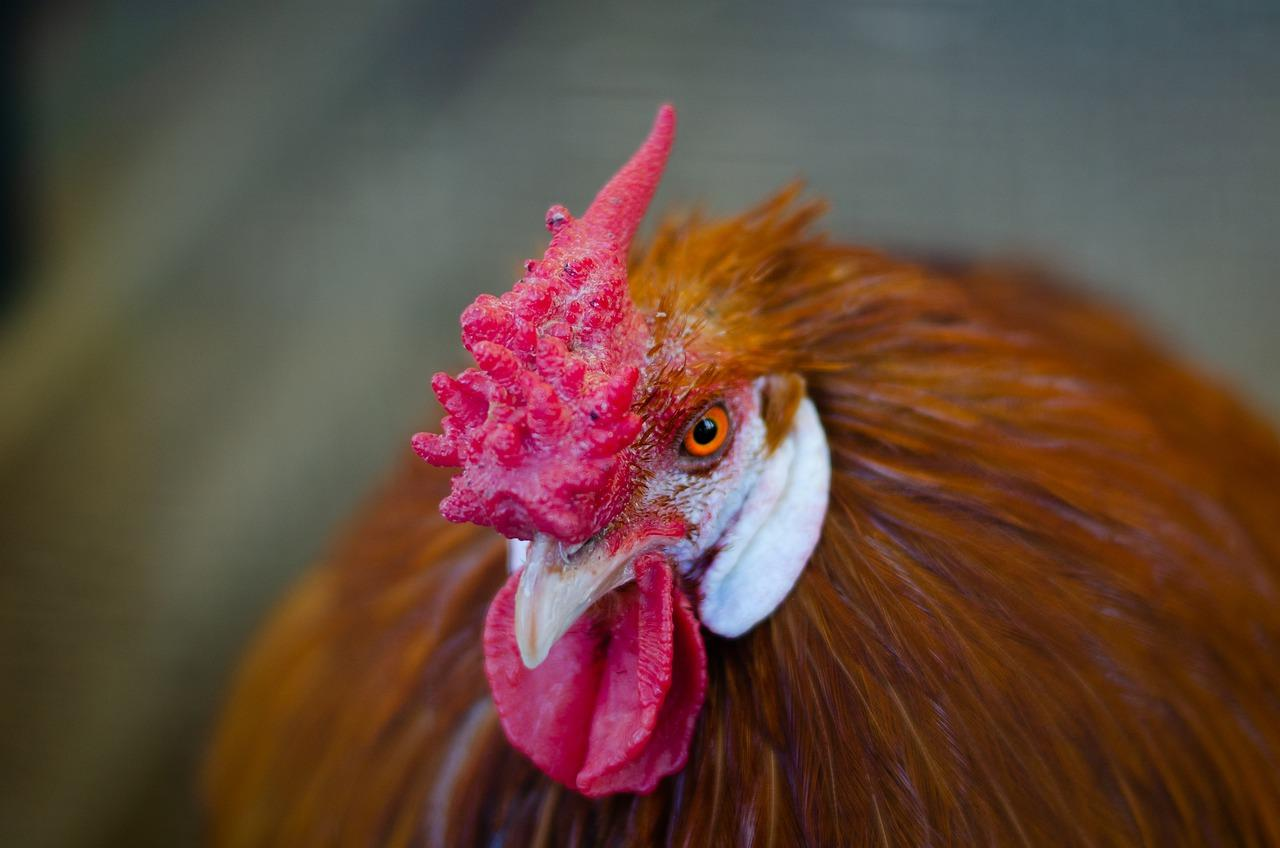AbNormal: (418, 97, 687, 533)
